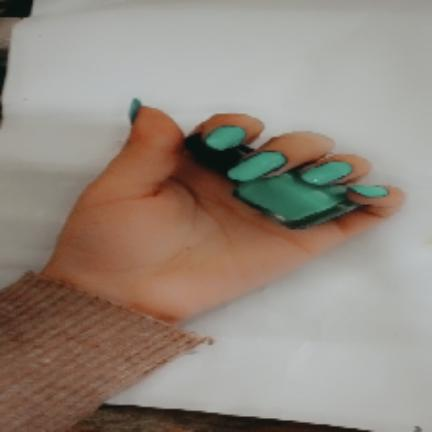Nail: (228, 150, 288, 181), (300, 160, 352, 186), (205, 124, 246, 150), (352, 184, 387, 198), (128, 99, 142, 124)
